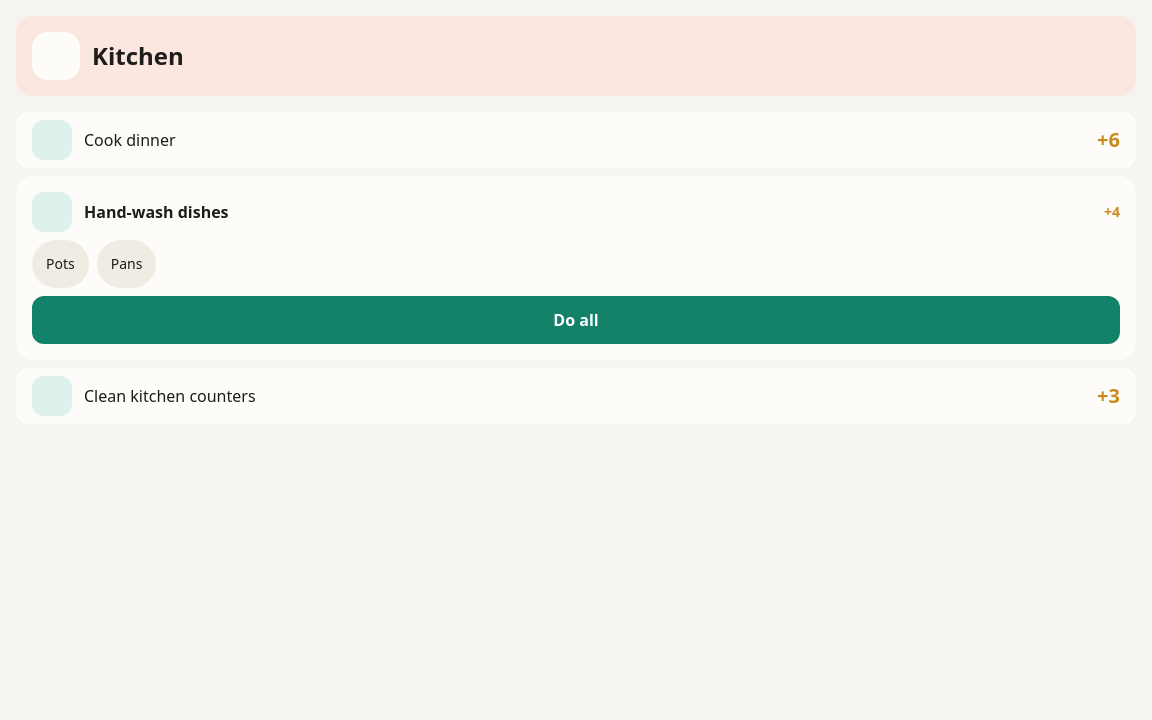
Scenario: CategoryScreen › tapping a sub-item chip creates one complete event for that sub-item only
Click the button with test id "task-group-chip" showing "Pots".
click(60, 264)  # box [32,240,89,288]
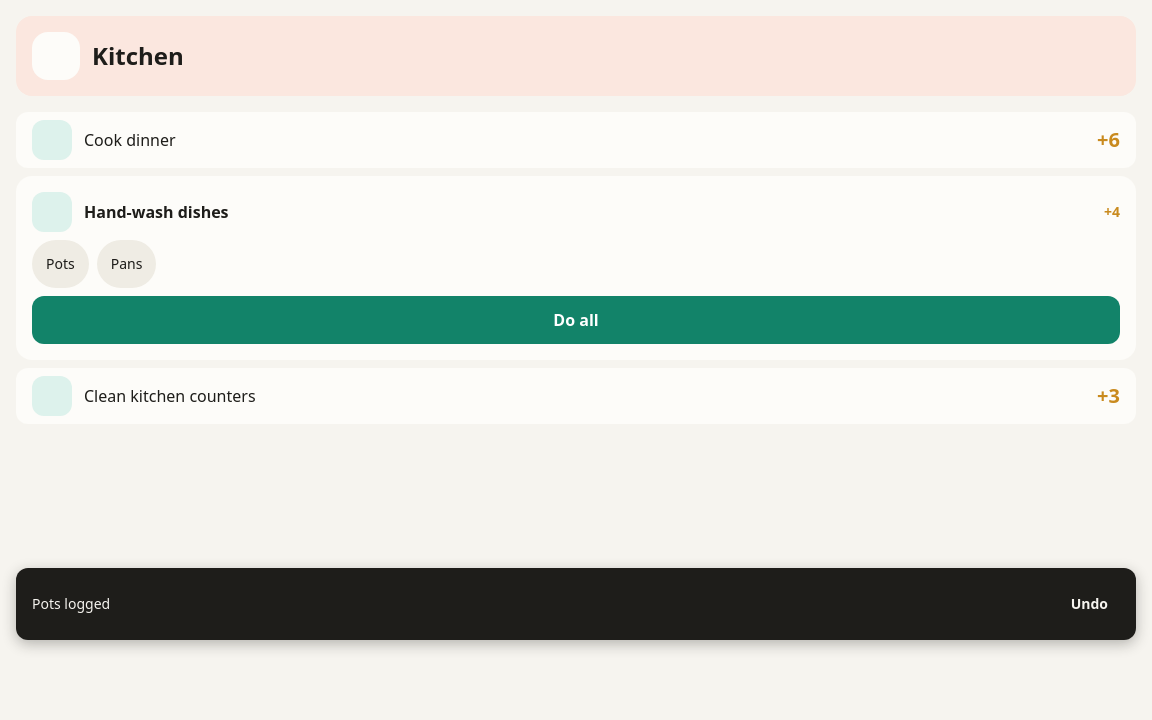
Now the message "Pots logged Undo" is shown, box [16,568,1136,640]
